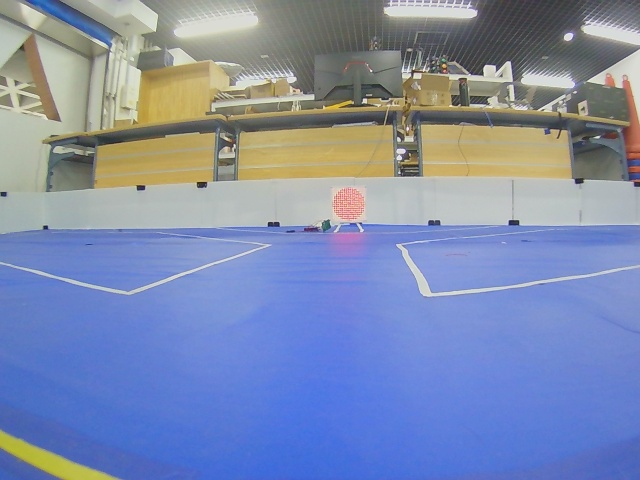red: (332, 187, 365, 222)
